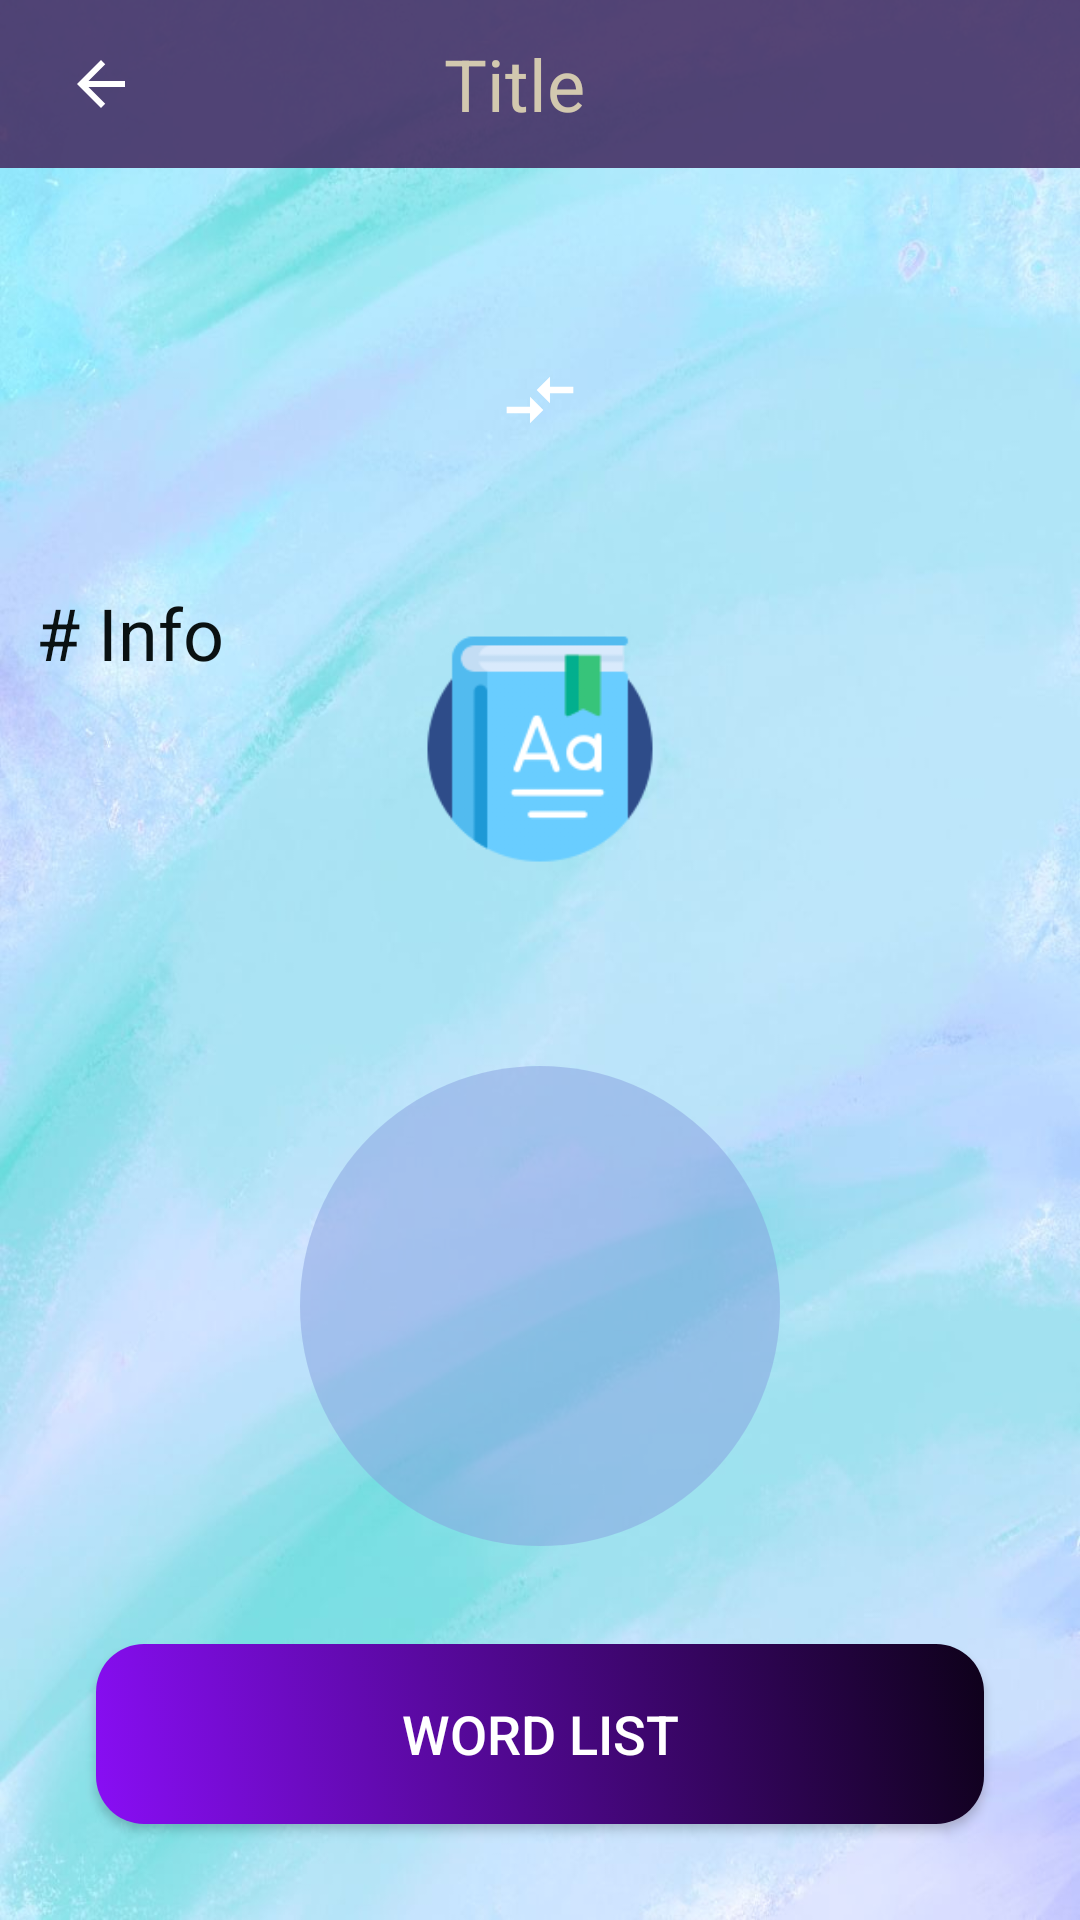

Icon bounding boxes for this 1080w x 1920h phone screenshot, format rect(x1, y1, x2, y2):
compare: rect(506, 377, 573, 423)
day night back: rect(77, 60, 125, 108)
